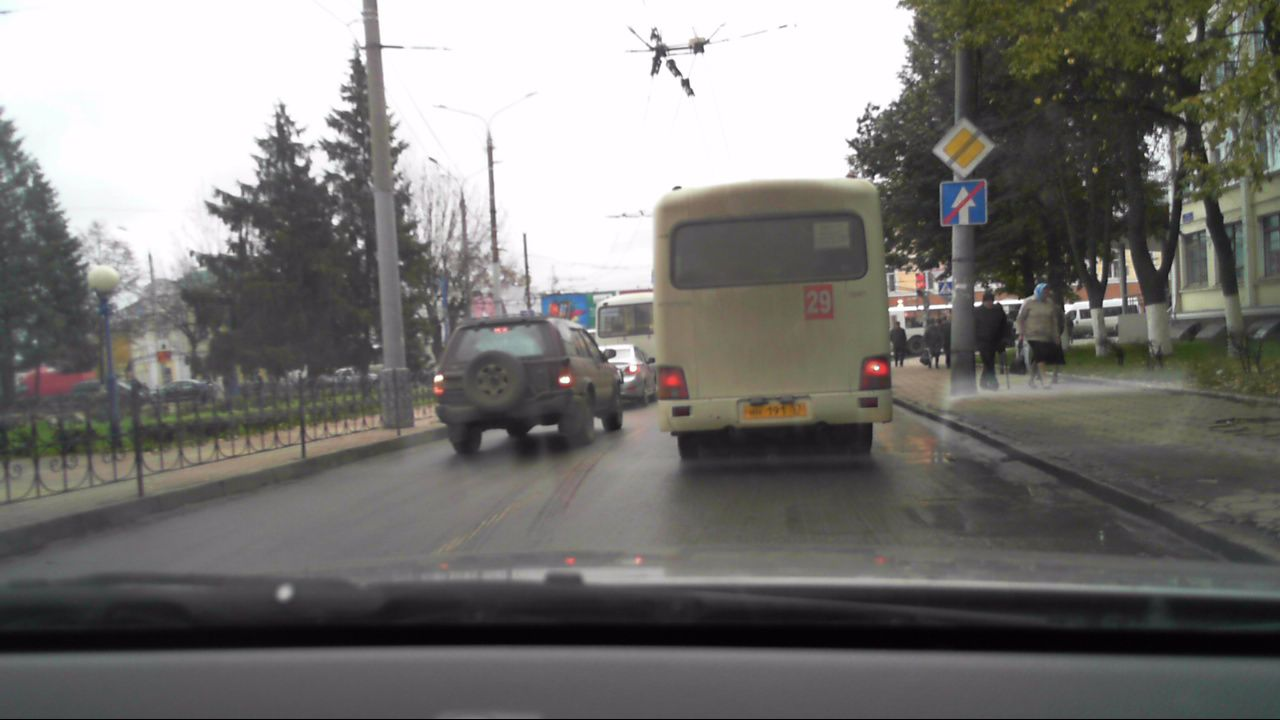main road: (933, 118, 994, 179)
